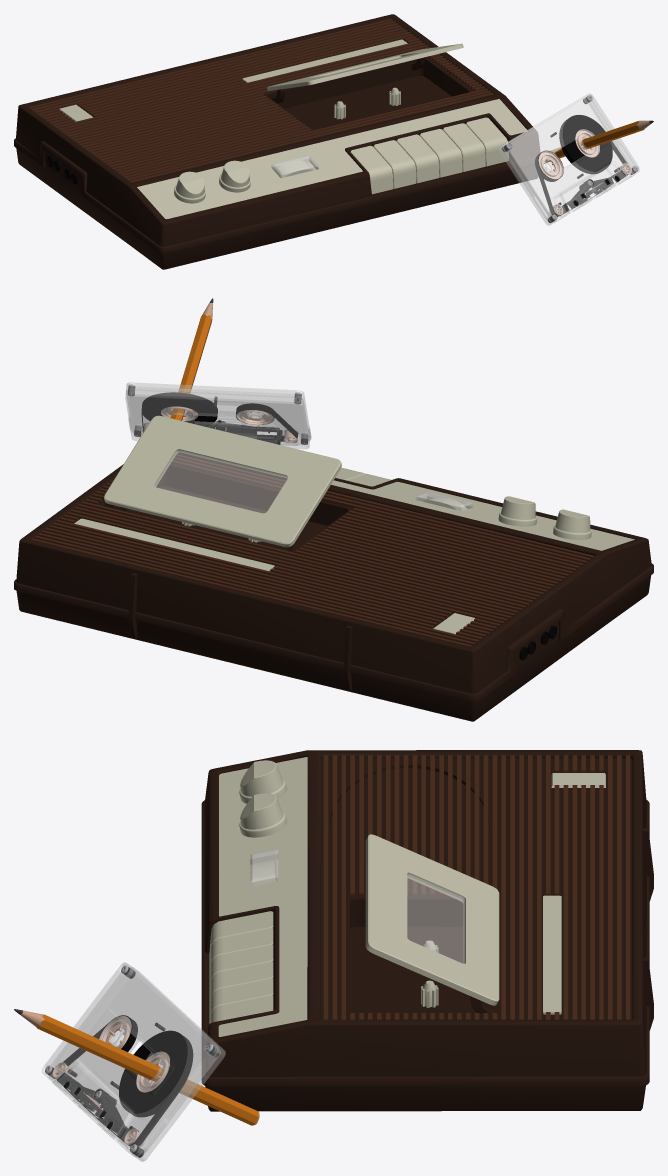
The model's file is cassete_tape_player.glb.
3 views of the same model, one above another, from view 1: azimuth 30°, elevation 25°; view 2: azimuth 150°, elevation 25°; view 3: azimuth 270°, elevation 25° (orthographic). The views are drawn at different scales.
Visible parts, largest first — view 1: model_1.017, model_1.057, model_1.002, model_1.082, model_1.087, model_0, model_3.042, model_10.042, model_1.015, model_1.014, model_1.060, model_1.088 (+9 smaller); view 2: model_1.017, model_1.057, model_10.042, model_0, model_1.087, model_10.040, model_10.017, model_1.002, model_1.082, model_3.042, model_1.035, Pencil (+2 smaller); view 3: model_1.017, model_1.087, model_1.057, model_1.002, model_1.082, model_10.042, model_0, model_3.042, model_10.040, Pencil, model_10.017, model_1.035 (+12 smaller).
Boxes of the visible parts, left/top/right/bottom form: model_1.017: left=14, top=14, right=540, bottom=269; model_1.057: left=28, top=18, right=493, bottom=182; model_1.002: left=503, top=93, right=639, bottom=222; model_1.082: left=137, top=99, right=527, bottom=219; model_1.087: left=77, top=39, right=473, bottom=130; model_0: left=499, top=96, right=635, bottom=225; model_3.042: left=536, top=115, right=631, bottom=216; model_10.042: left=267, top=43, right=463, bottom=90; model_1.015: left=443, top=123, right=485, bottom=171; model_1.014: left=396, top=134, right=439, bottom=183; model_1.060: left=373, top=140, right=416, bottom=188; model_1.088: left=420, top=129, right=462, bottom=177; model_1.017: left=14, top=452, right=653, bottom=721; model_1.057: left=31, top=454, right=594, bottom=646; model_10.042: left=104, top=415, right=341, bottom=547; model_0: left=125, top=389, right=310, bottom=448; model_1.087: left=75, top=464, right=452, bottom=627; model_10.040: left=155, top=450, right=287, bottom=512; model_10.017: left=156, top=452, right=287, bottom=512; model_1.002: left=126, top=382, right=311, bottom=445; model_1.082: left=331, top=480, right=634, bottom=550; model_3.042: left=141, top=392, right=298, bottom=443; model_1.035: left=74, top=518, right=274, bottom=571; Pencil: left=170, top=298, right=213, bottom=420; model_1.017: left=201, top=750, right=649, bottom=1111; model_1.087: left=320, top=758, right=632, bottom=1019; model_1.057: left=323, top=755, right=630, bottom=1019; model_1.002: left=42, top=962, right=218, bottom=1156; model_1.082: left=218, top=757, right=307, bottom=1036; model_10.042: left=365, top=834, right=499, bottom=1005; model_0: left=49, top=967, right=225, bottom=1161; model_3.042: left=52, top=1016, right=193, bottom=1147; model_10.040: left=407, top=874, right=464, bottom=963; Pencil: left=14, top=1009, right=259, bottom=1125; model_10.017: left=408, top=876, right=463, bottom=962; model_1.035: left=543, top=895, right=561, bottom=1014.
Size of the model in its own units: 2.77 by 0.5916 by 2.25.
13 materials, 1 textured.
